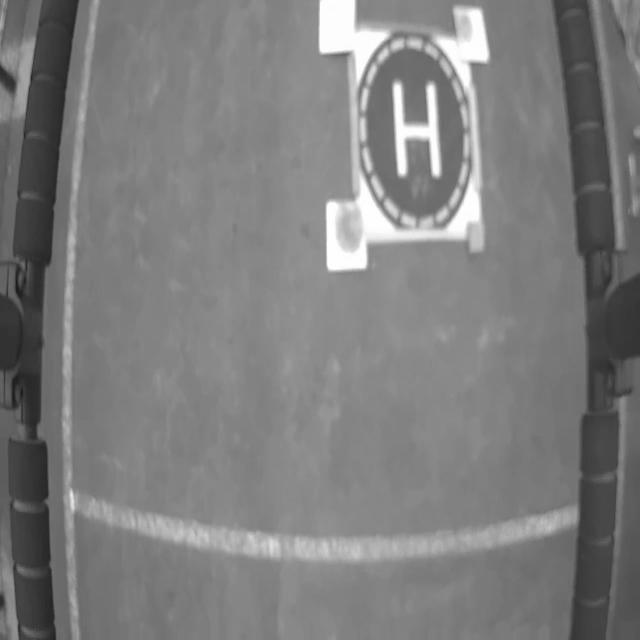Helipad: (393, 76, 442, 177)
